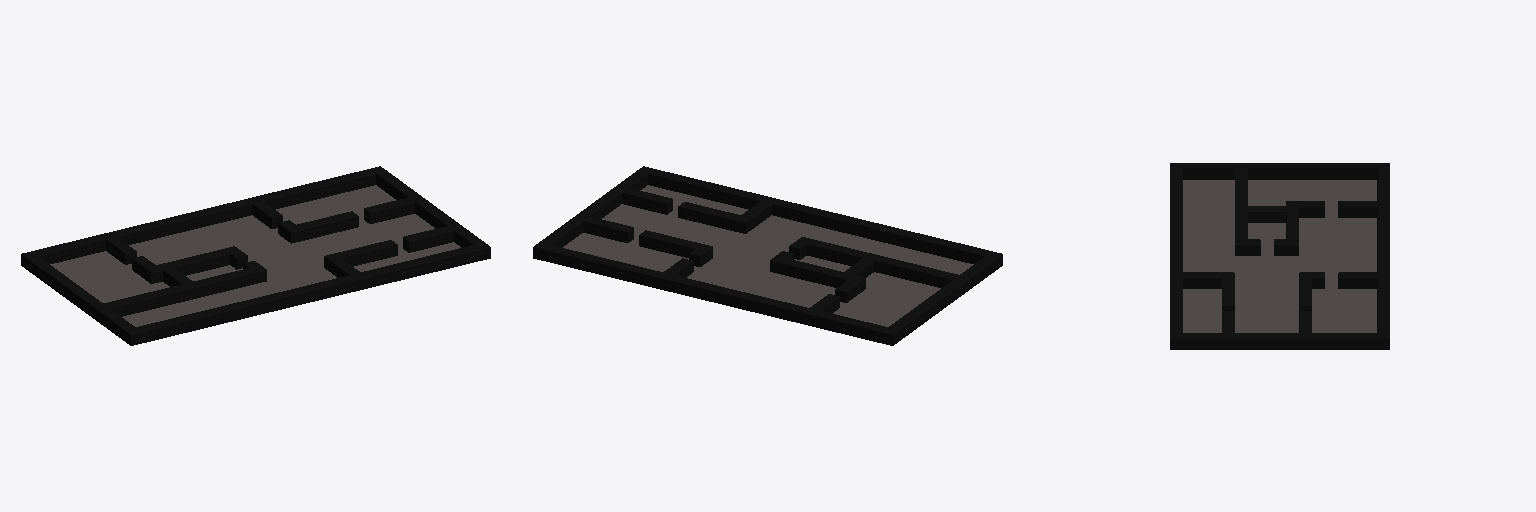
The model's file is MapMesh_1.obj.
3 renders of one model, left to right at view 1: azimuth 30°, elevation 25°; view 2: azimuth 150°, elevation 25°; view 3: azimuth 270°, elevation 25°, orthographic.
Parts seen in each view (by area): view 1: level walls, floor level; view 2: level walls, floor level; view 3: floor level, level walls.
Part boxes in pixels (x1,y1,x2,y2): level walls: (21, 166, 490, 345); floor level: (50, 185, 460, 326); level walls: (533, 166, 1002, 345); floor level: (563, 185, 973, 326); floor level: (1183, 180, 1376, 332); level walls: (1170, 163, 1389, 349).
Bounding box in the file's own units: 32 × 1 × 17.